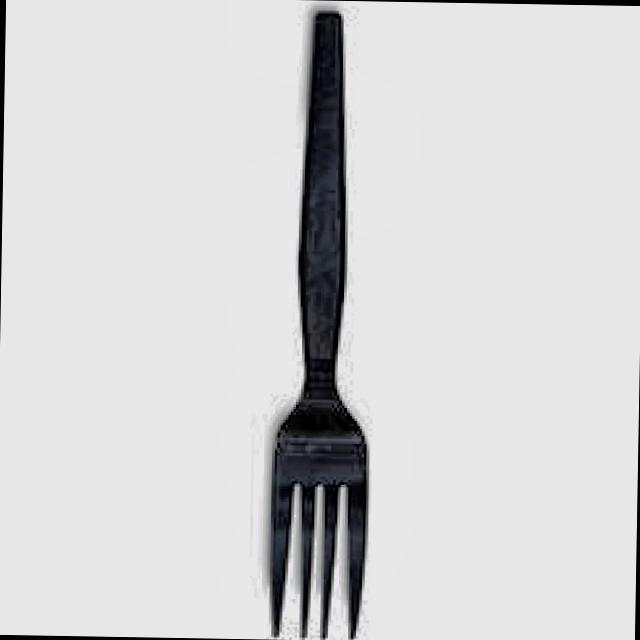plastic utensil: (266, 7, 377, 640)
